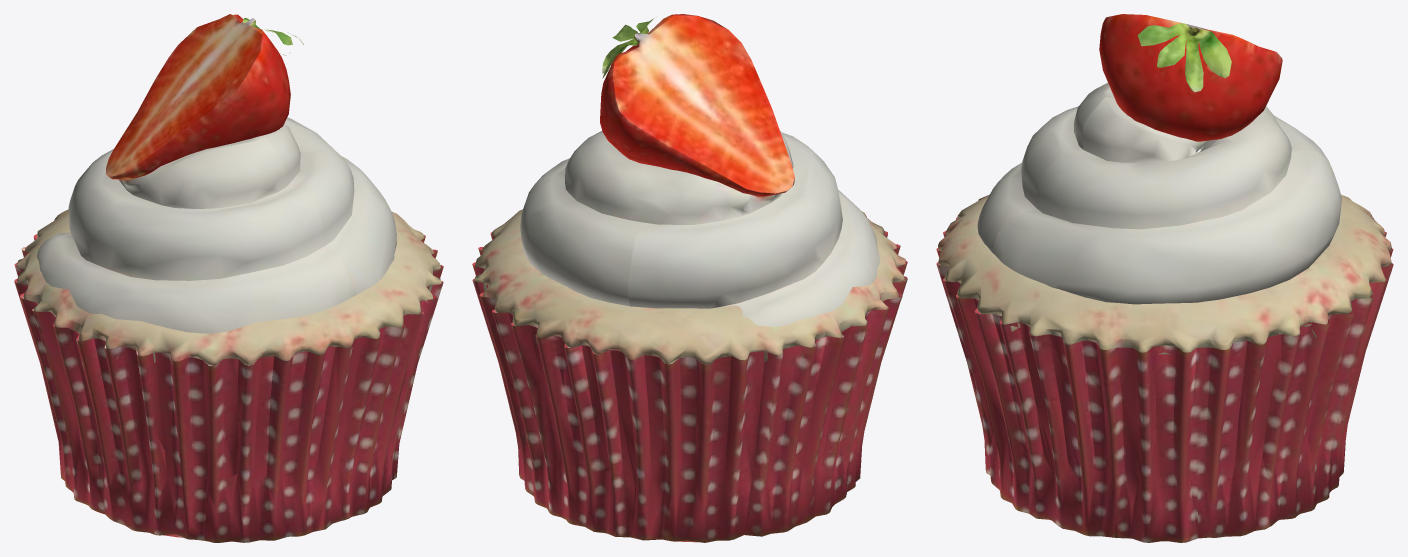
Rendered from food_prepared_cupcake_c01.glb.
3 renders of one model, left to right at view 1: azimuth 30°, elevation 25°; view 2: azimuth 150°, elevation 25°; view 3: azimuth 270°, elevation 25°, orthographic. The views are drawn at different scales.
Visible parts, largest first — view 1: part0; view 2: part0; view 3: part0.
Boxes of the visible parts, x1,y1,x2,y2 form: part0: (14,14,443,542); part0: (472,14,907,542); part0: (936,14,1393,542).
Size of the model in its own units: 0.0702 by 0.0791 by 0.0703.
Materials: 1 (1 with a texture image).
